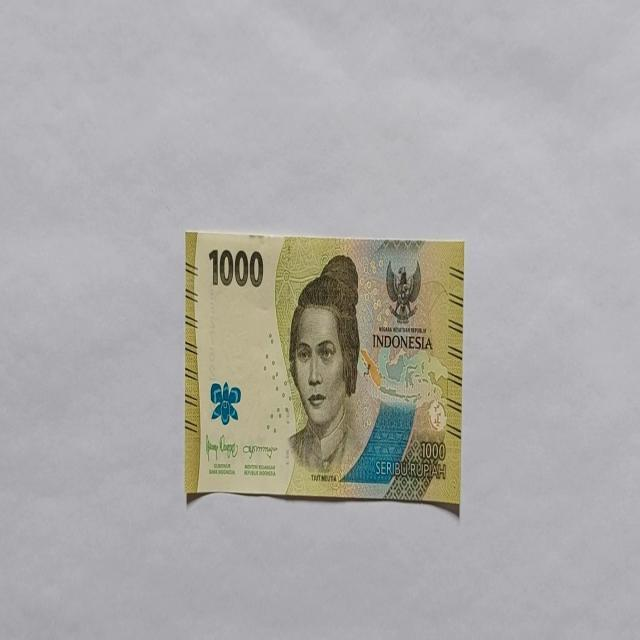seribu rupiah kertas: (183, 230, 464, 510)
